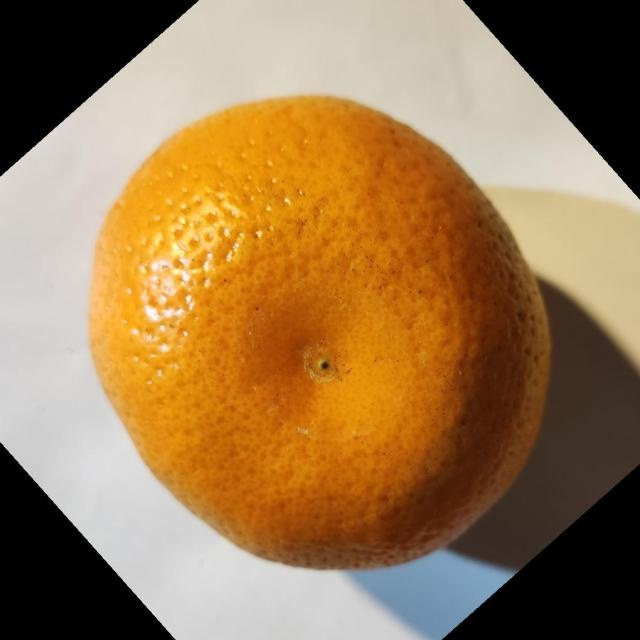agrume: (86, 93, 553, 571)
